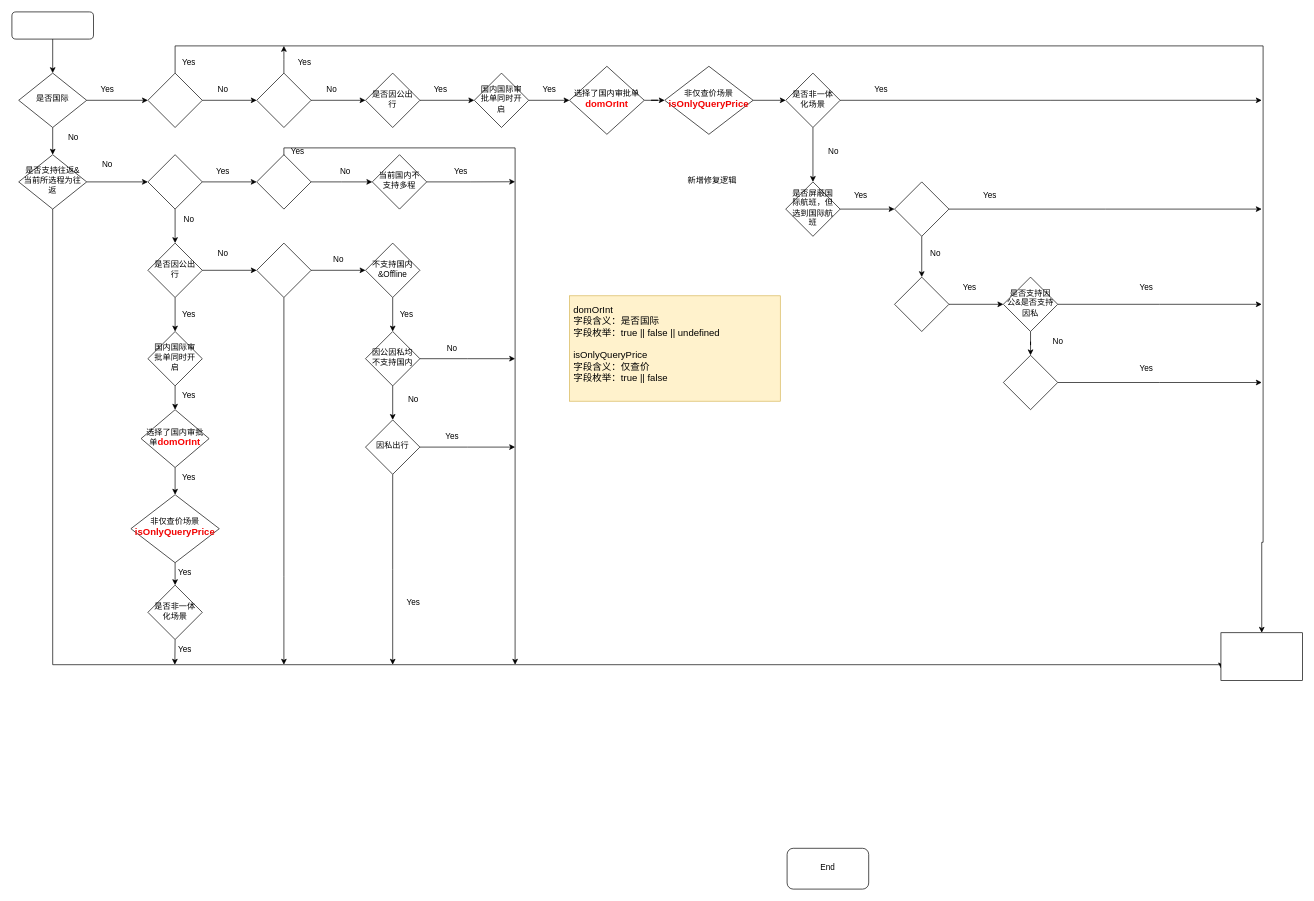
This 1314x901 diagram has some shape labels left out. Each missing label, with the box of its shape:
Start: (11, 11, 94, 39)
不支持国内&Online: (256, 242, 311, 298)
当前所选因私出行: (1003, 355, 1058, 410)
当前所选是否多程: (147, 154, 202, 209)
是否Offline: (894, 276, 949, 332)
是否Online: (894, 181, 949, 236)
是否国际支持多程: (256, 72, 311, 128)
是否国际支持往返: (147, 72, 202, 128)
是否大于两程（国内最多支持2程）: (256, 154, 311, 209)
设置confirmTip: (1220, 632, 1303, 680)
